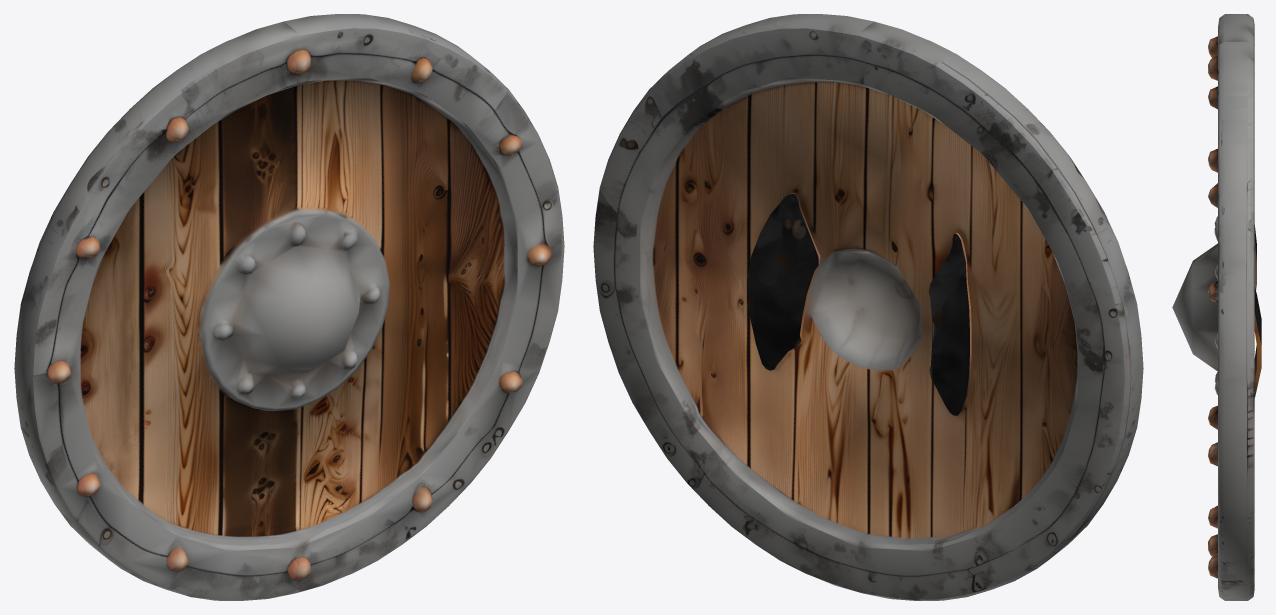
File: WoodenShield.fbx
The picture shows the model from 3 angles, left to right: view 1: azimuth 30°, elevation 25°; view 2: azimuth 150°, elevation 25°; view 3: azimuth 270°, elevation 25°; orthographic projection. The views are drawn at different scales.
Parts seen in each view (by area): view 1: texture_pbr_v128; view 2: texture_pbr_v128; view 3: texture_pbr_v128.
Boxes of the visible parts, box(x1,y1,x2,y2) form: texture_pbr_v128: box(14, 14, 564, 600); texture_pbr_v128: box(593, 14, 1143, 600); texture_pbr_v128: box(1172, 14, 1261, 600).
Bounding box in the file's own units: 119 × 119 × 18.08.
Materials: 1 (1 with a texture image).
